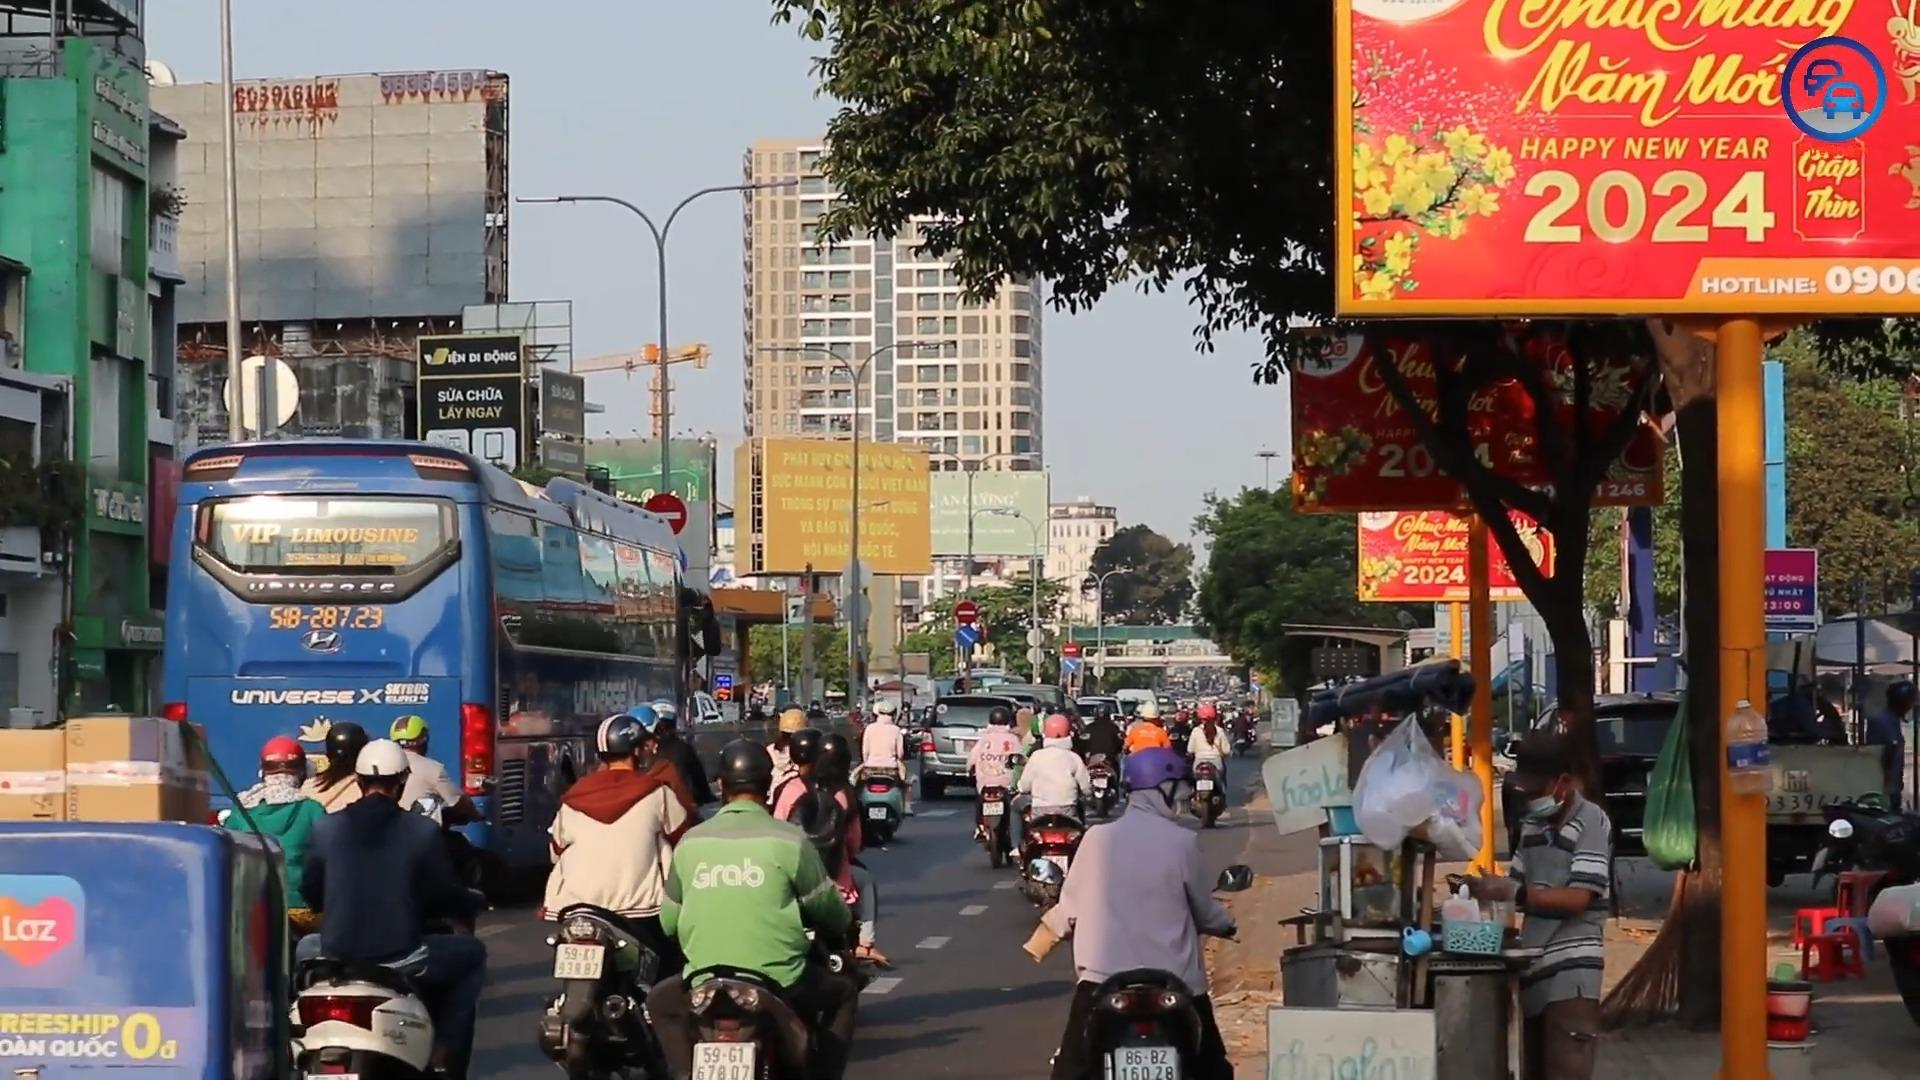bien_so: (691, 1041, 755, 1080), (1114, 1044, 1179, 1080), (552, 942, 606, 981)
